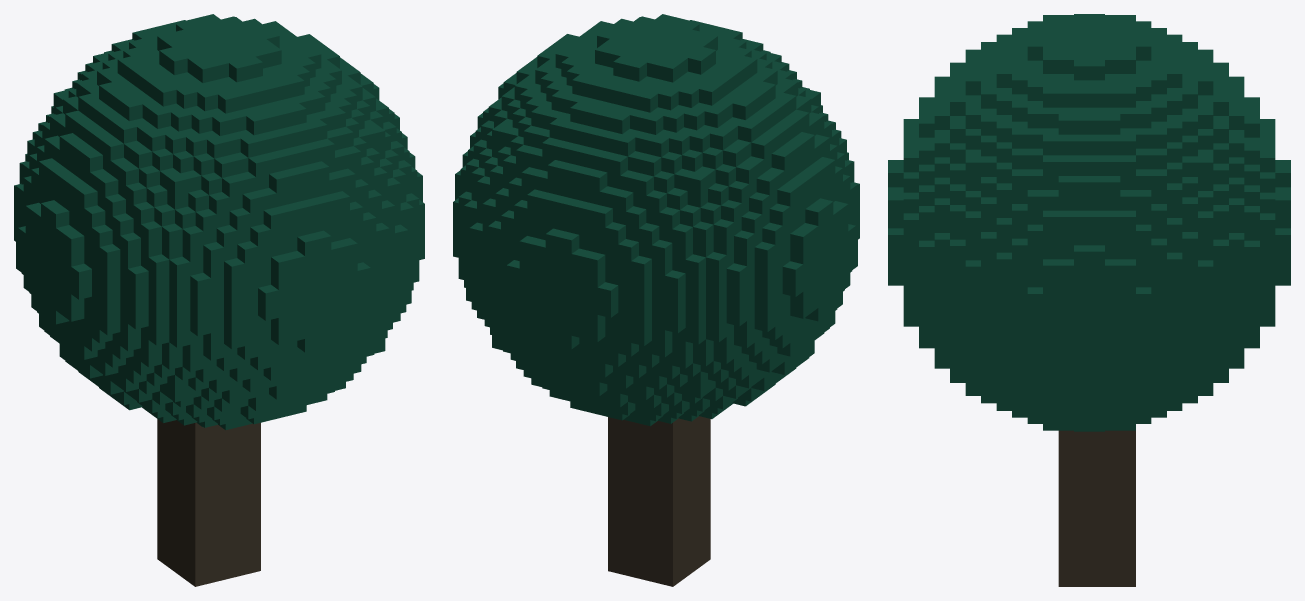
Rendered from tree2_new.obj.
3 views of the same model, side by side, from view 1: azimuth 30°, elevation 25°; view 2: azimuth 150°, elevation 25°; view 3: azimuth 270°, elevation 25° (orthographic). The views are drawn at different scales.
Bounding box in the file's own units: 2.6 × 3.8 × 2.6.
Materials: 1 (1 with a texture image).
